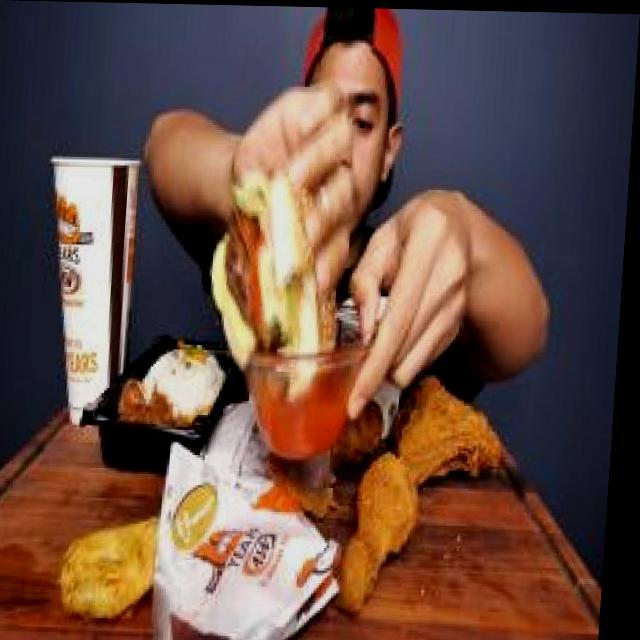AW cola: (34, 141, 168, 436)
black pepper rice bowl: (117, 327, 243, 440)
fried chicken: (332, 334, 521, 632)
mozza burger: (209, 149, 367, 405)
perkedel: (60, 502, 180, 632)
